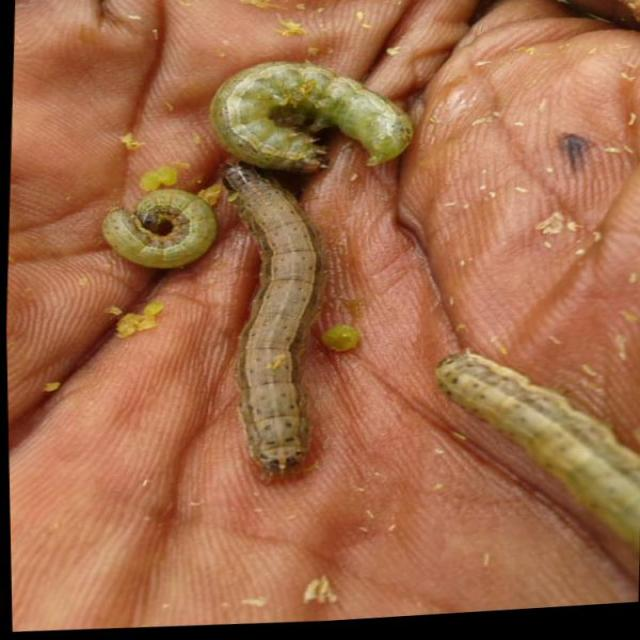yellow-stem-borer-larva: (212, 161, 346, 498)
